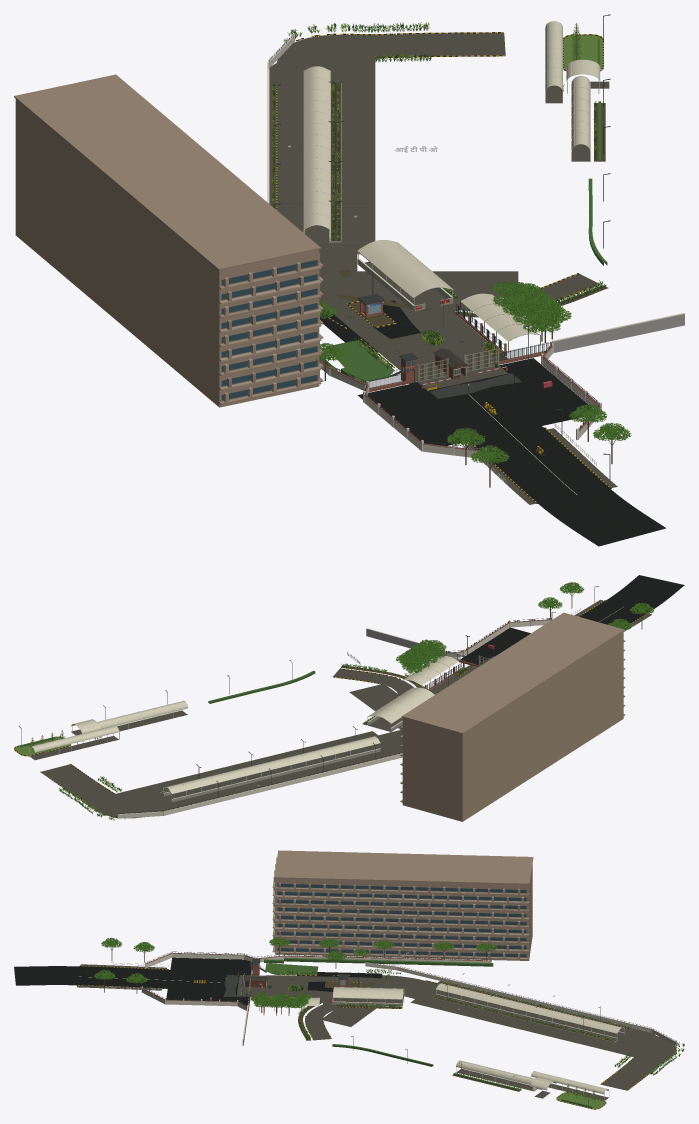
The model's file is gate9-detail.glb.
The picture shows the model from 3 angles, top to bottom: view 1: azimuth 30°, elevation 25°; view 2: azimuth 150°, elevation 25°; view 3: azimuth 270°, elevation 25°; orthographic projection. The views are drawn at different scales.
Visible parts, largest first — view 1: G9 static 16 Photo left neighbouring property G9 neighbour s (×4), SITE_GROUND_gate9 01 Approach road G9 weathered asphalt, SITE_GROUND_gate9 parallel passage concrete, SITE_GROUND_gate9 20 Corrected gate alignment and left road , SITE_GROUND_gate9 03 Interior lanes G9 brushed warm concrete, G9 static 16 Photo left neighbouring property G9 neighbour r, SITE_GROUND_gate9 17 Curved parking entrance shelter photo G, G9 static 18 Photo parallel office passages G9 weathered ten, G9 leaf_canopy 14 Entry right fenced shelter G9 leaf tone 1, G9 static 17 Curved parking entrance shelter photo G9 weathe, G9 leaf_canopy 05 Planting G9 leaf tone 1, G9 static 02 Gate and security G9 cream boundary plaster (+14 smaller); view 2: G9 static 16 Photo left neighbouring property G9 neighbour s (×2), SITE_GROUND_gate9 parallel passage concrete, SITE_GROUND_gate9 01 Approach road G9 weathered asphalt, SITE_GROUND_gate9 03 Interior lanes G9 brushed warm concrete, G9 static 18 Photo parallel office passages G9 weathered ten, G9 static 13 Left property boundary — user correction G9 cre, SITE_GROUND_gate9 17 Curved parking entrance shelter photo G, G9 leaf_canopy 14 Entry right fenced shelter G9 leaf tone 1, G9 static 11 Office frontage drop-off and walkway (2026-10-1, G9 static 17 Curved parking entrance shelter photo G9 weathe, G9 static 18 Photo parallel office passages G9 stained concr, G9 leaf_canopy 05 Planting G9 leaf tone 1 (+8 smaller); view 3: G9 static 16 Photo left neighbouring property G9 neighbour s (×5), G9 static 16 Photo left neighbouring property G9 neighbour r, SITE_GROUND_gate9 01 Approach road G9 weathered asphalt, SITE_GROUND_gate9 parallel passage concrete, SITE_GROUND_gate9 03 Interior lanes G9 brushed warm concrete, SITE_GROUND_gate9 20 Corrected gate alignment and left road , G9 static 18 Photo parallel office passages G9 weathered ten, SITE_GROUND_gate9 17 Curved parking entrance shelter photo G, G9 static 13 Left property boundary — user correction G9 cre, G9 static 02 Gate and security G9 cream boundary plaster, G9 static 16 Photo left neighbouring property G9 clipped gre, G9 static 18 Photo parallel office passages G9 stained concr (+14 smaller).
Part boxes in pixels (x1,y1,x2,y2): G9 static 16 Photo left neighbouring property G9 neighbour s (×4): (14,74,323,407); SITE_GROUND_gate9 01 Approach road G9 weathered asphalt: (357,358,665,546); SITE_GROUND_gate9 parallel passage concrete: (269,46,375,254); SITE_GROUND_gate9 20 Corrected gate alignment and left road : (319,275,508,389); SITE_GROUND_gate9 03 Interior lanes G9 brushed warm concrete: (276,33,598,311); G9 static 16 Photo left neighbouring property G9 neighbour r: (221,259,317,400); SITE_GROUND_gate9 17 Curved parking entrance shelter photo G: (319,254,518,312); G9 static 18 Photo parallel office passages G9 weathered ten: (303,66,330,229); G9 leaf_canopy 14 Entry right fenced shelter G9 leaf tone 1: (492,281,571,332); G9 static 17 Curved parking entrance shelter photo G9 weathe: (357,240,453,298); G9 leaf_canopy 05 Planting G9 leaf tone 1: (319,300,631,463); G9 static 02 Gate and security G9 cream boundary plaster: (363,313,684,459); G9 static 16 Photo left neighbouring property G9 neighbour s (×2): (400,612,625,821); SITE_GROUND_gate9 parallel passage concrete: (100,731,401,813); SITE_GROUND_gate9 01 Approach road G9 weathered asphalt: (461,575,684,666); SITE_GROUND_gate9 03 Interior lanes G9 brushed warm concrete: (41,669,413,818); G9 static 18 Photo parallel office passages G9 weathered ten: (166,736,380,793); G9 static 13 Left property boundary — user correction G9 cre: (117,753,402,818); SITE_GROUND_gate9 17 Curved parking entrance shelter photo G: (349,683,402,748); G9 leaf_canopy 14 Entry right fenced shelter G9 leaf tone 1: (396,639,446,673); G9 static 11 Office frontage drop-off and walkway (2026-10-1: (71,701,187,733); G9 static 17 Curved parking entrance shelter photo G9 weathe: (367,687,434,723); G9 static 18 Photo parallel office passages G9 stained concr: (159,745,380,802); G9 leaf_canopy 05 Planting G9 leaf tone 1: (538,582,654,630); G9 static 16 Photo left neighbouring property G9 neighbour s (×5): (272,850,533,960); G9 static 16 Photo left neighbouring property G9 neighbour r: (277,883,526,957); SITE_GROUND_gate9 01 Approach road G9 weathered asphalt: (14,957,252,1005); SITE_GROUND_gate9 parallel passage concrete: (411,981,665,1060); SITE_GROUND_gate9 03 Interior lanes G9 brushed warm concrete: (305,975,676,1090); SITE_GROUND_gate9 20 Corrected gate alignment and left road : (236,975,433,1001); G9 static 18 Photo parallel office passages G9 weathered ten: (436,983,621,1033); SITE_GROUND_gate9 17 Curved parking entrance shelter photo G: (321,982,430,1026); G9 static 13 Left property boundary — user correction G9 cre: (365,962,677,1045); G9 static 02 Gate and security G9 cream boundary plaster: (141,951,255,1039); G9 static 16 Photo left neighbouring property G9 clipped gre: (264,957,493,966); G9 static 18 Photo parallel office passages G9 stained concr: (432,991,624,1043).
Bounding box in the file's own units: 173 × 34.43 × 269.
53 materials, 7 textured.
